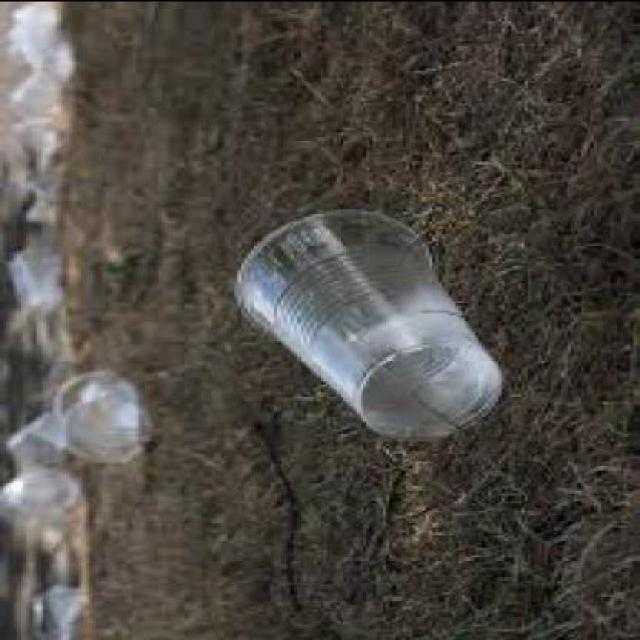PLASTIC: (230, 212, 502, 440), (53, 372, 149, 465), (10, 471, 79, 527), (7, 249, 65, 314), (7, 415, 65, 467), (29, 588, 86, 638), (19, 170, 59, 222), (13, 72, 65, 112), (13, 10, 56, 55), (16, 118, 59, 158)
